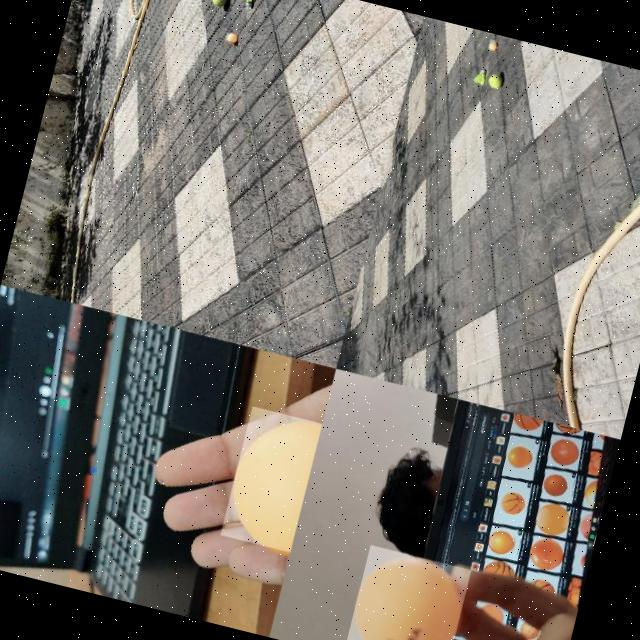ping-pong-ball: (217, 406, 320, 554), (342, 544, 471, 640), (223, 32, 237, 44), (486, 39, 496, 51)
